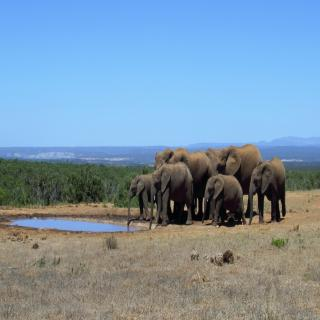Elephant: (147, 161, 195, 228), (248, 156, 288, 226), (201, 172, 247, 228), (126, 170, 162, 227)
